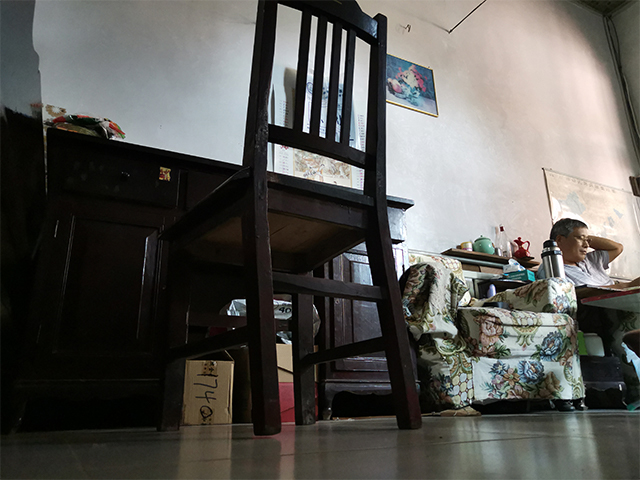cabinet: (1, 125, 415, 436)
sofa: (400, 247, 588, 412)
stool: (154, 1, 424, 437)
